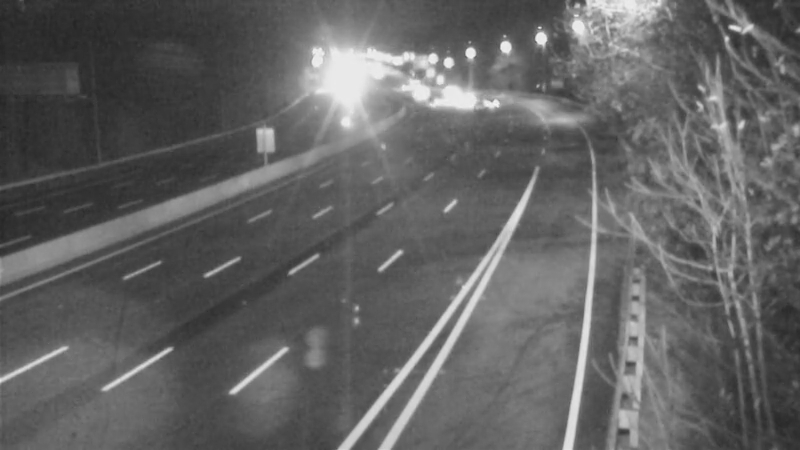vehicle: (393, 69, 443, 119), (429, 74, 479, 124), (412, 75, 462, 125), (441, 79, 491, 129), (465, 79, 515, 129)
